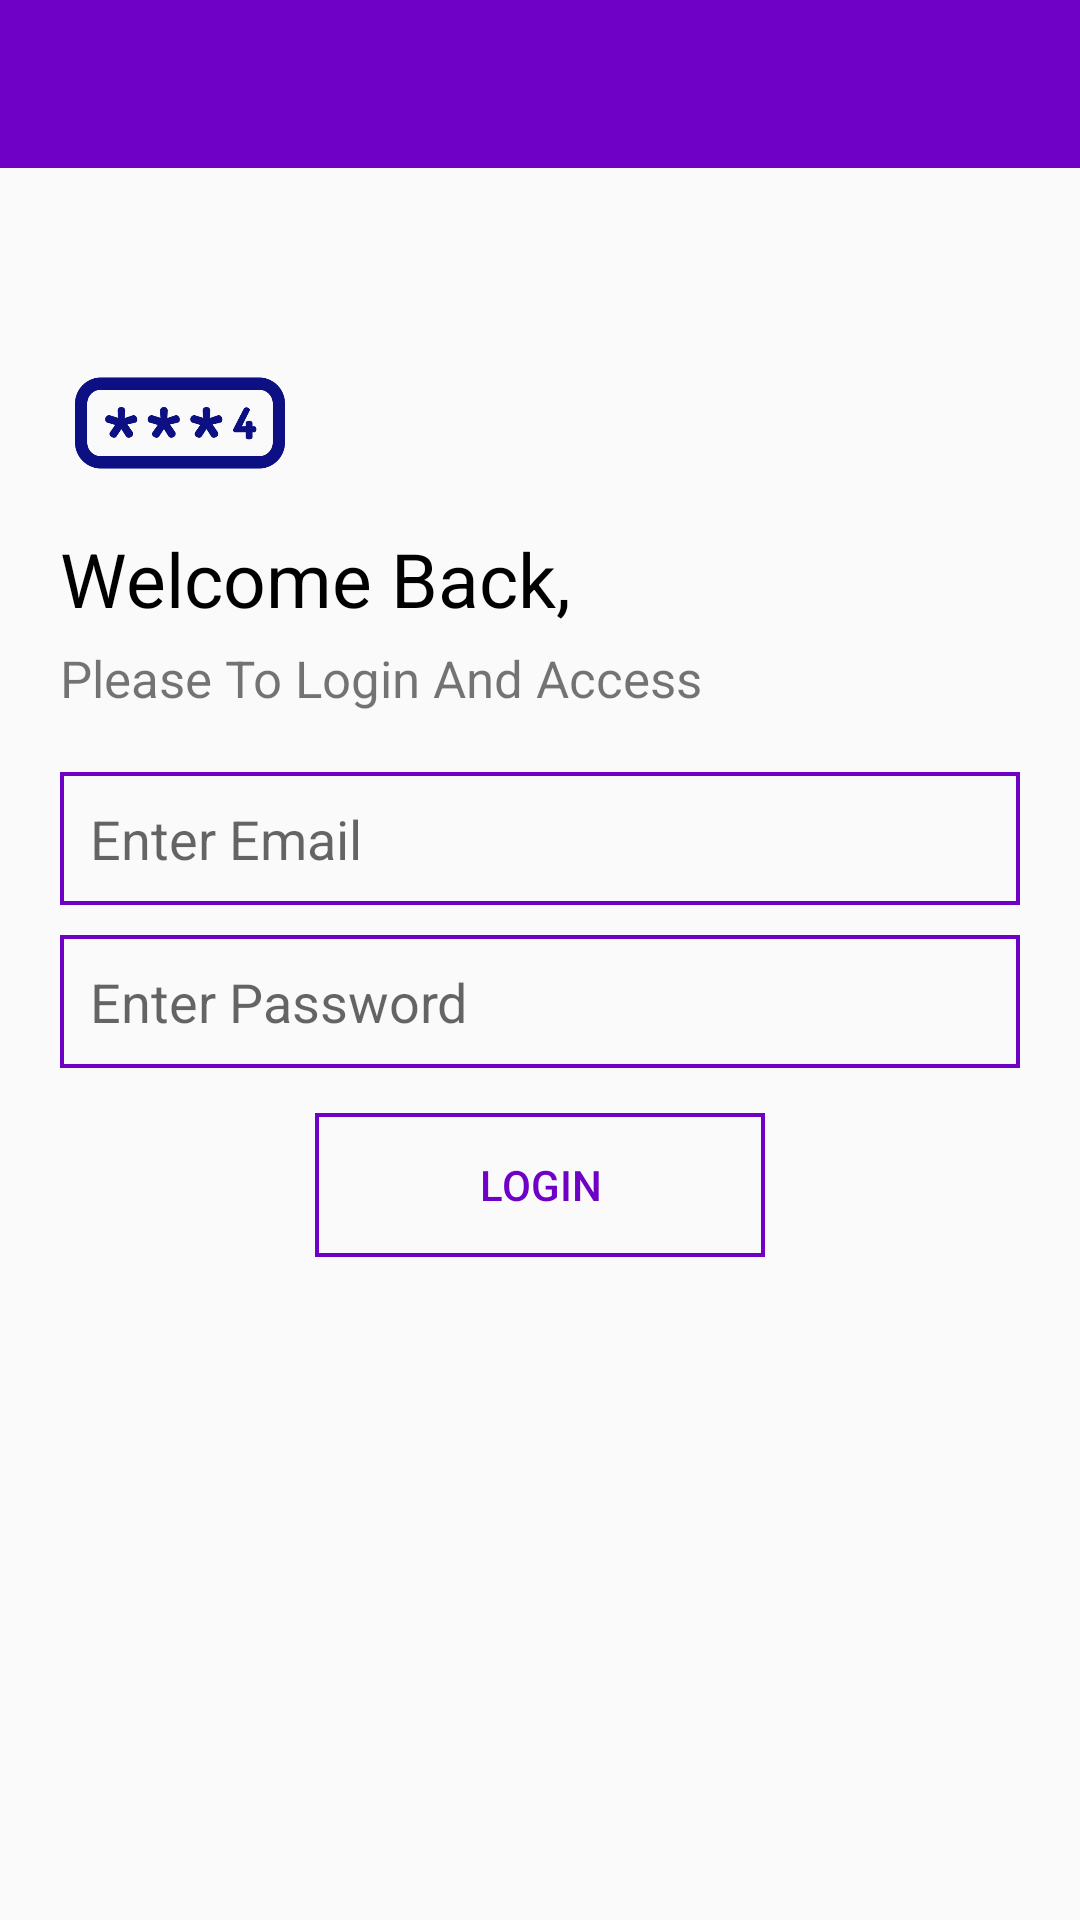

Locate icon controls on the screen. Image size 1080*1920, boxes as (x1, y1, x2, y2).
password: (75, 377, 285, 469)
